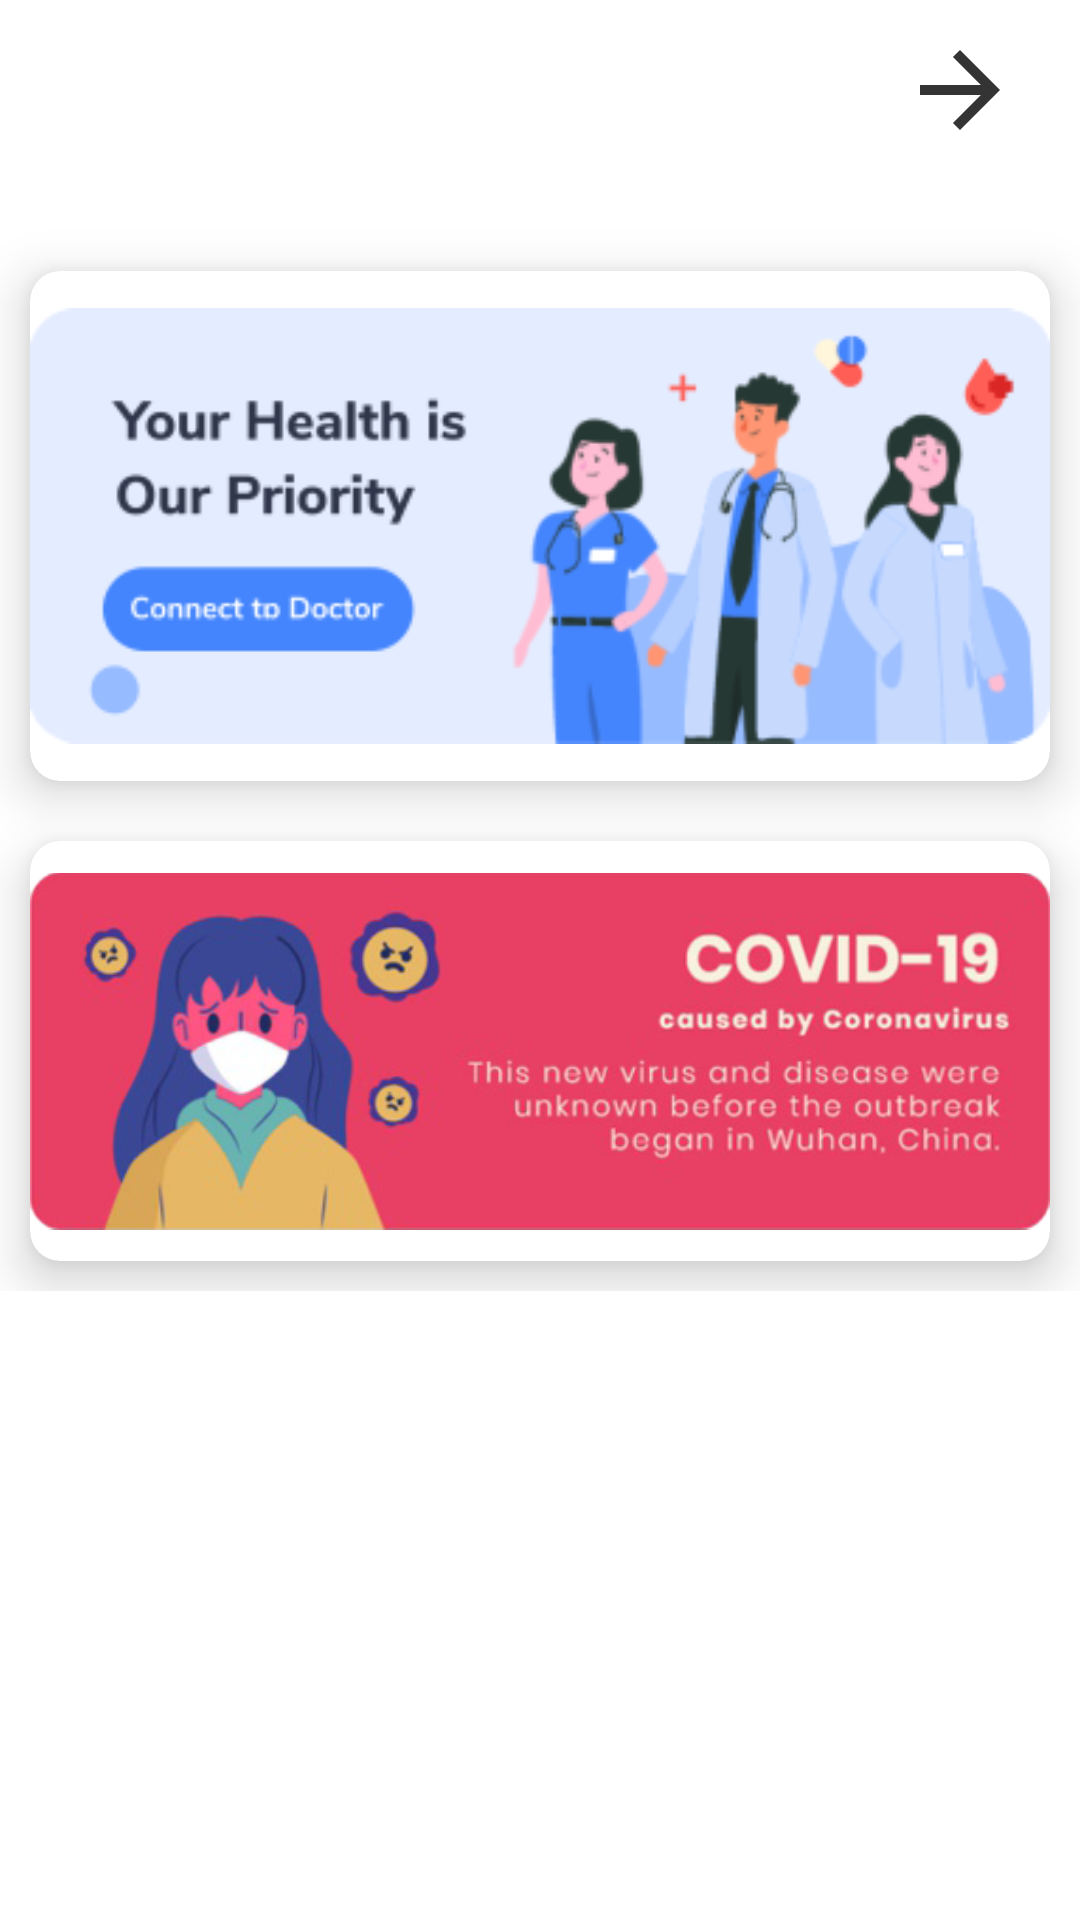

Point at icon controls on the screen. Image size 1080*1920, points as point (x, y).
forward arrow: point (960, 90)
